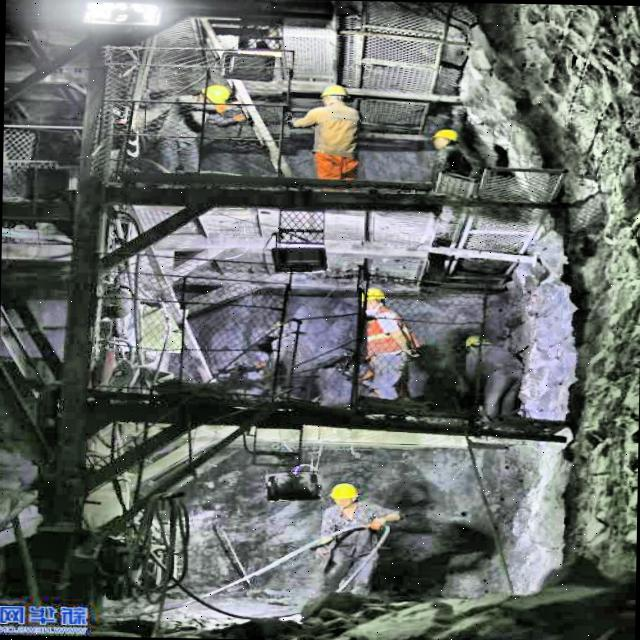helmet: (186, 80, 234, 112), (351, 282, 391, 318), (321, 479, 364, 512), (314, 82, 352, 109), (429, 123, 463, 149)
